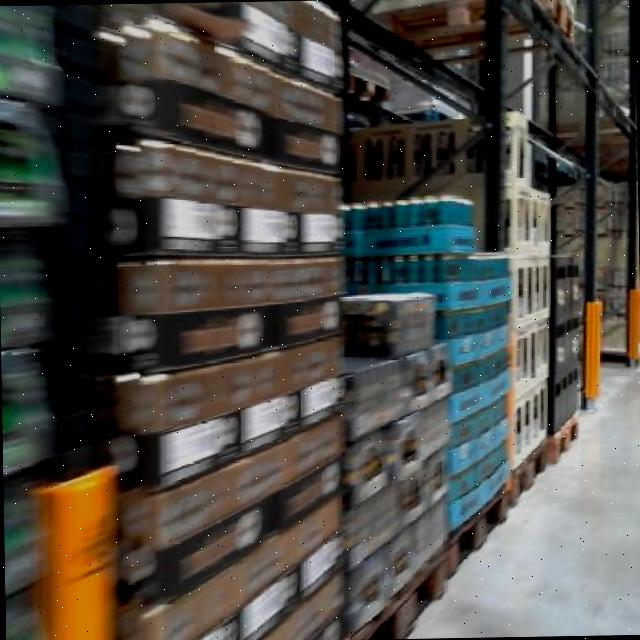pallet: (444, 470, 515, 580), (544, 398, 588, 463)
